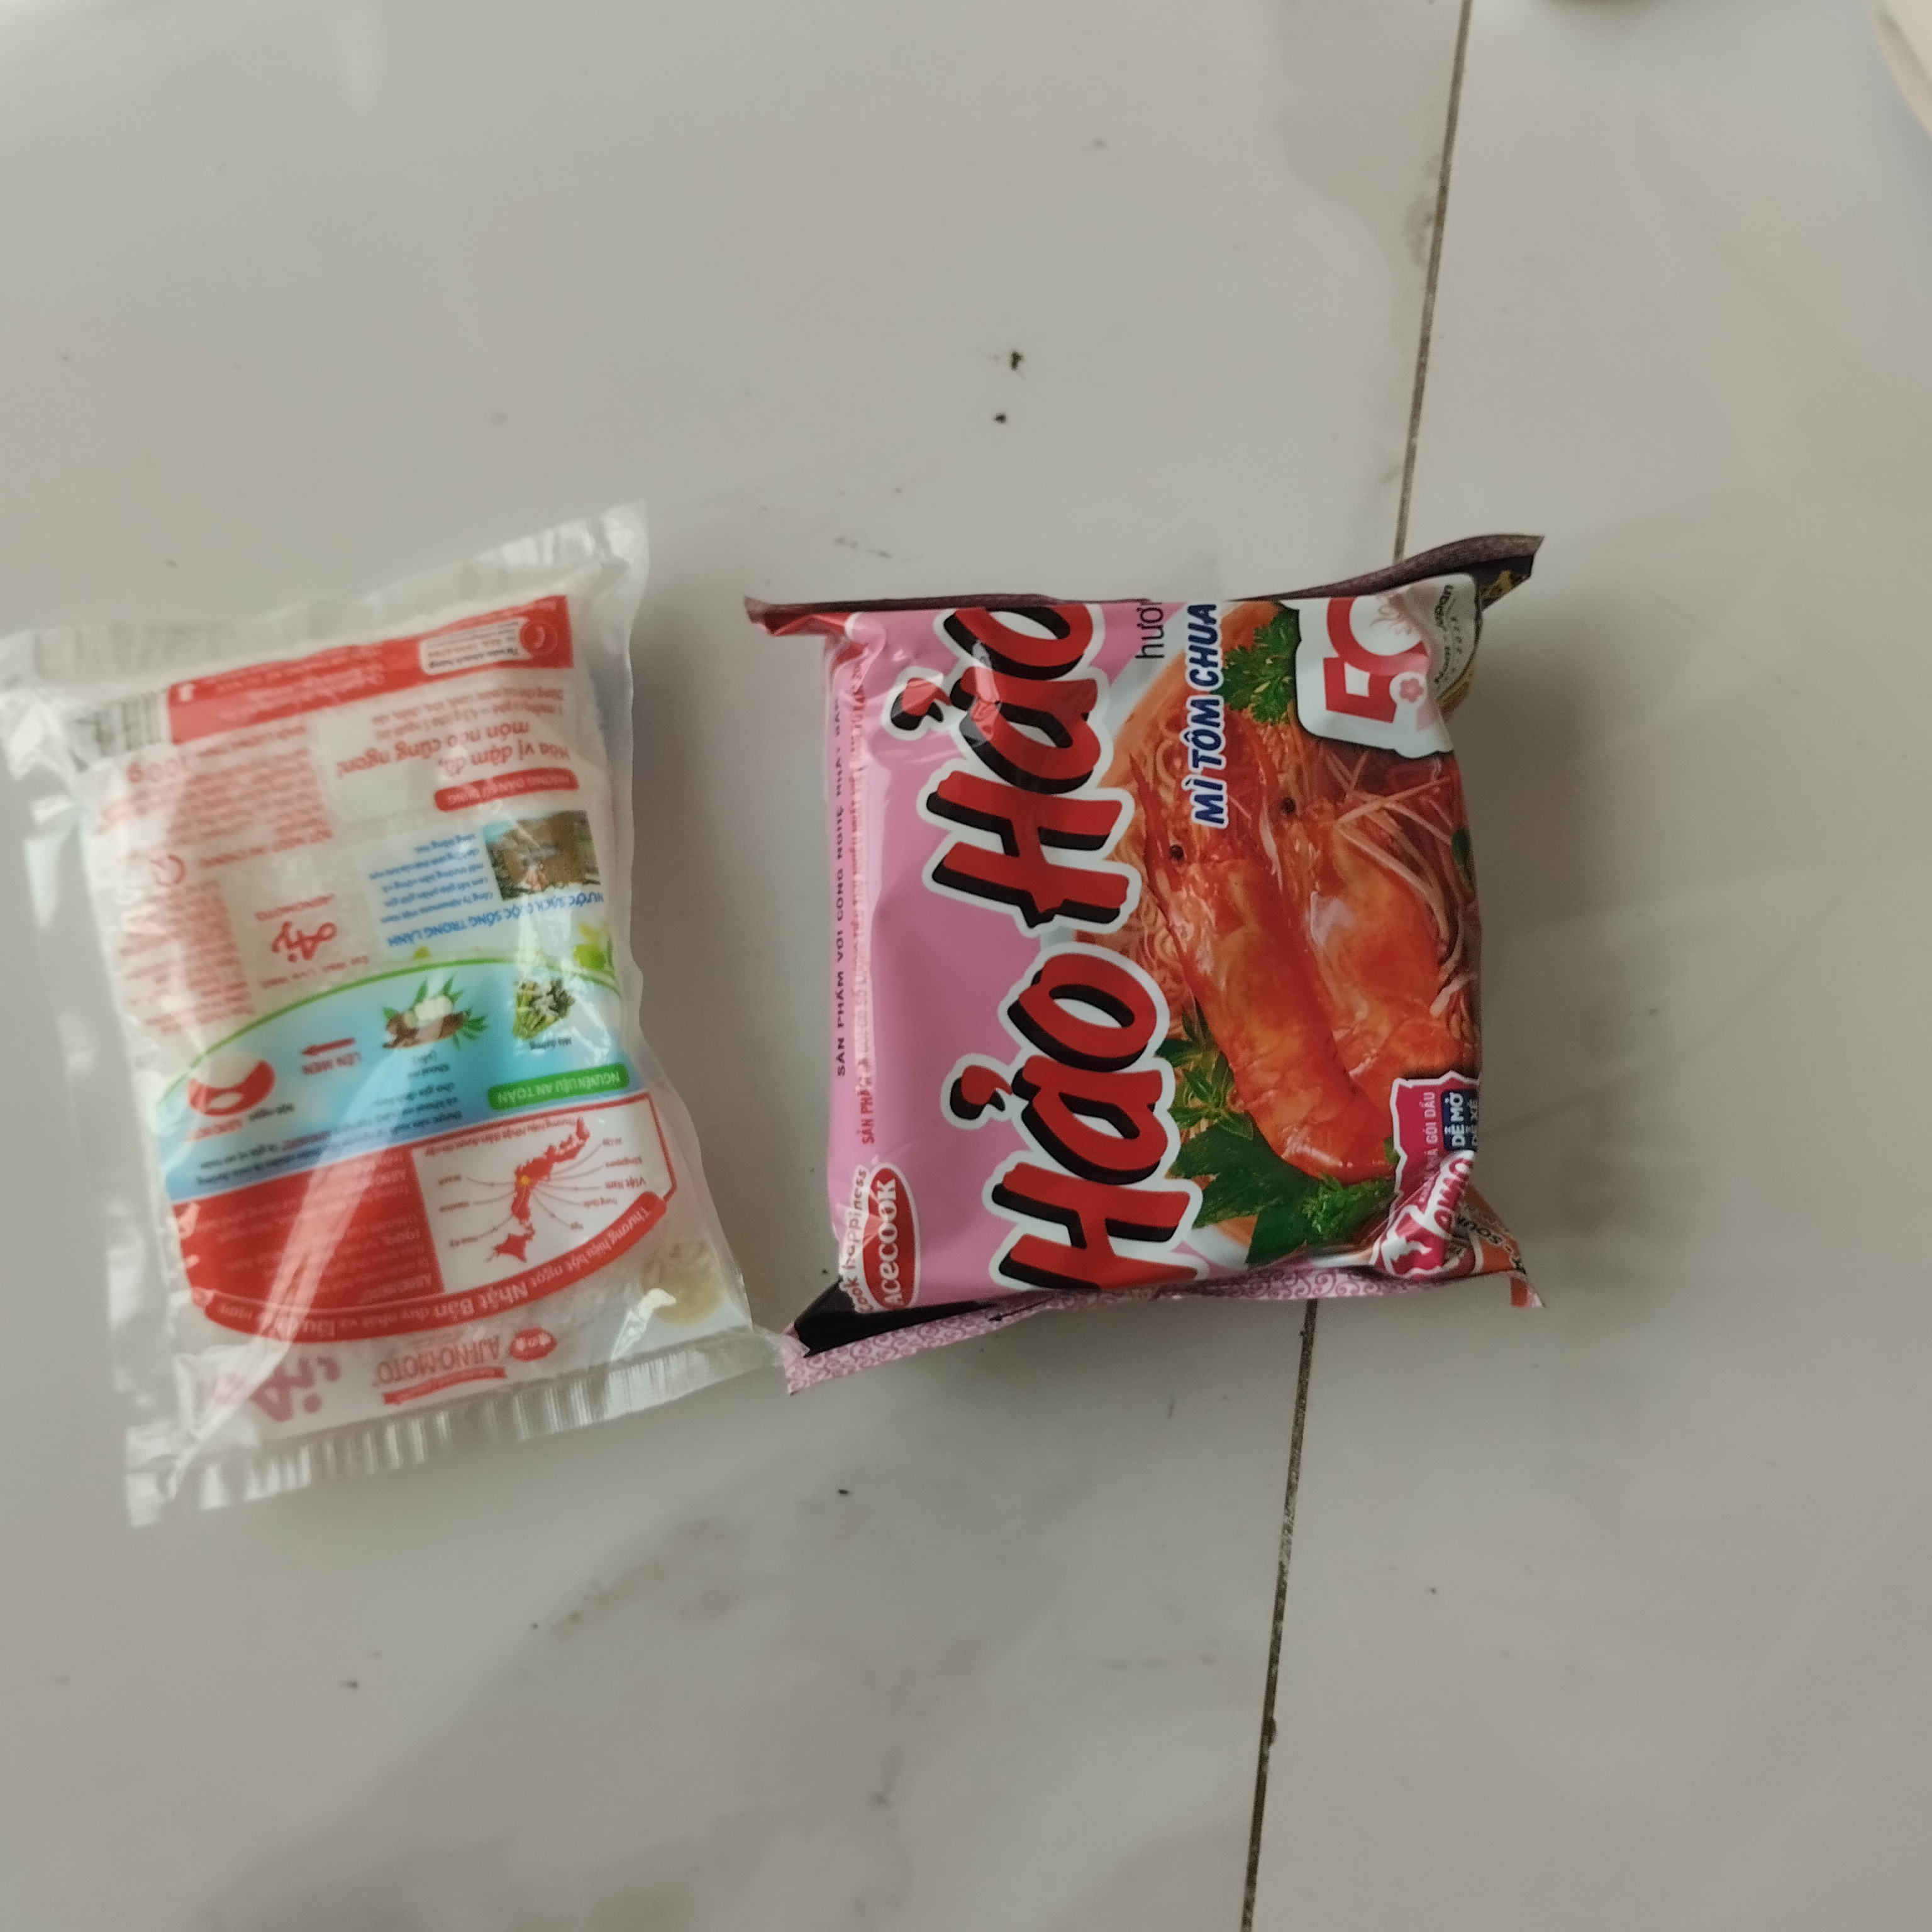Ajinomoto: (16, 513, 755, 1555)
Haohao: (747, 529, 1555, 1408)
